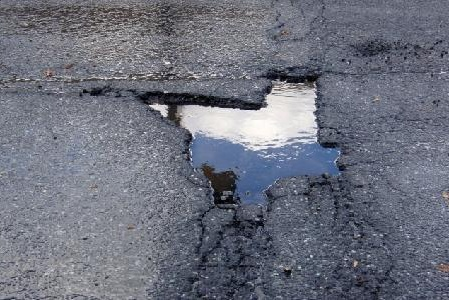pothole: (135, 66, 349, 216)
